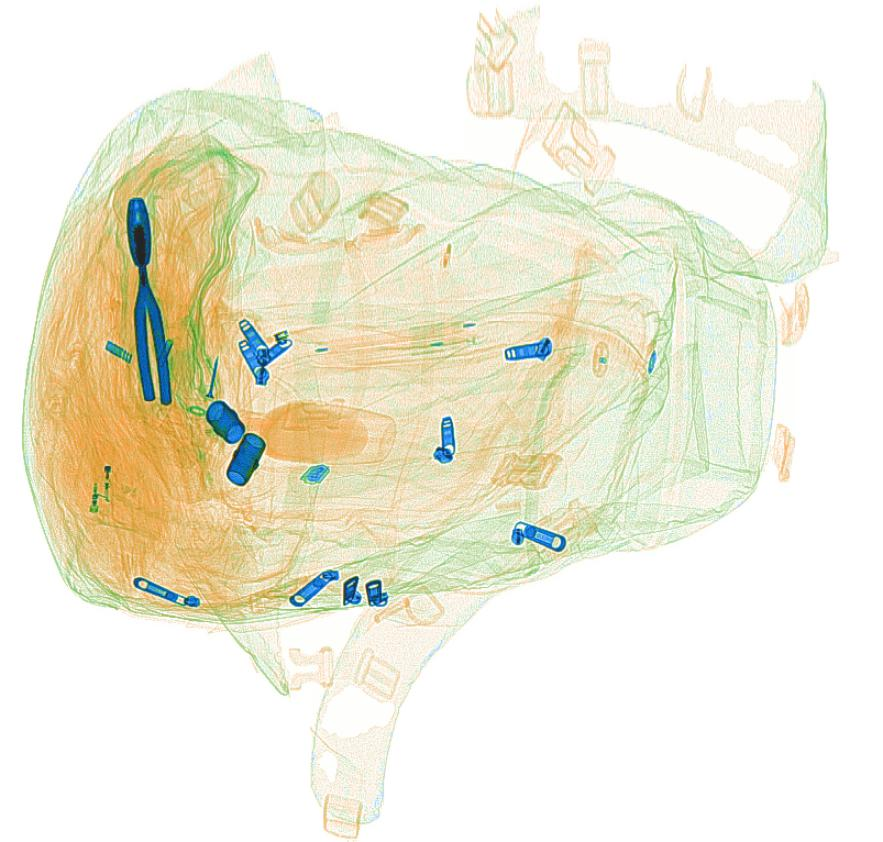lighter: (85, 442, 115, 517)
